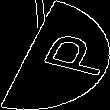P_W: (11, 29, 99, 81)
